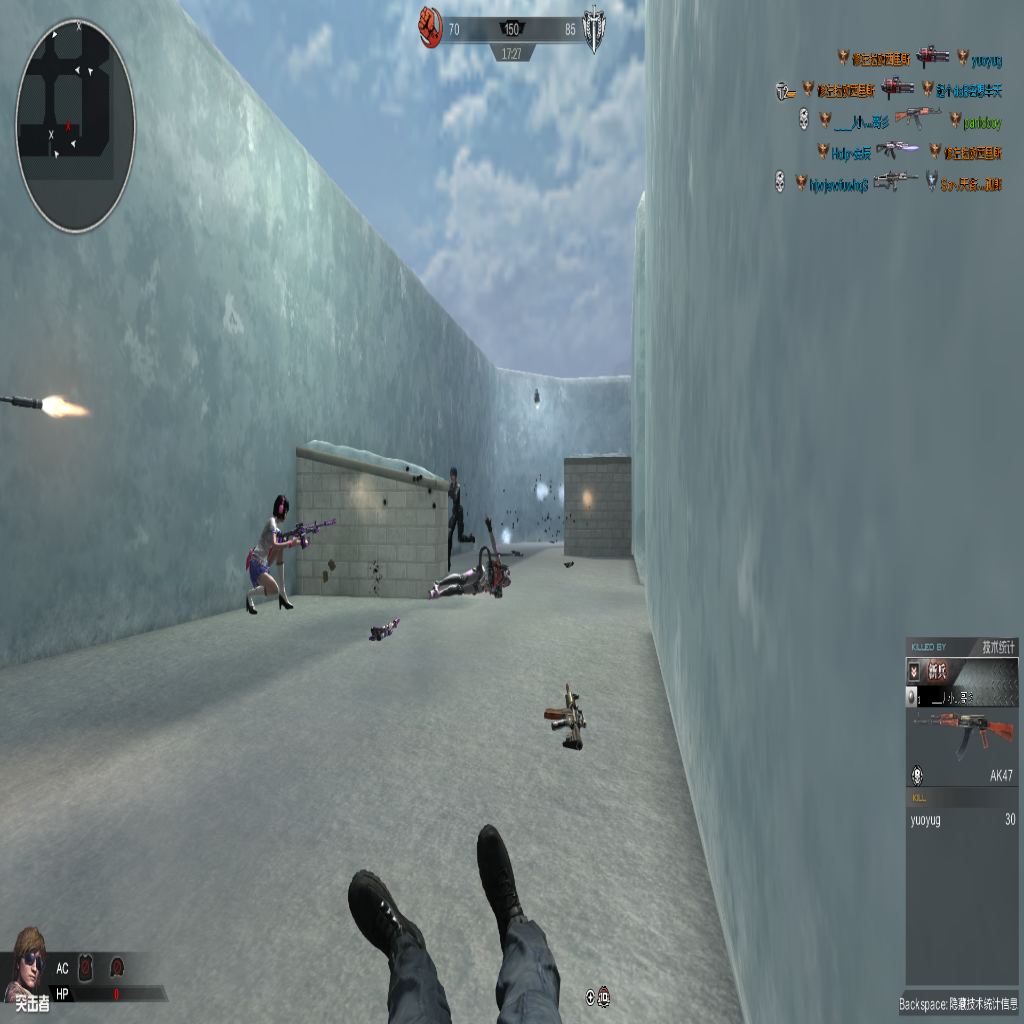ct: (444, 466, 471, 571)
